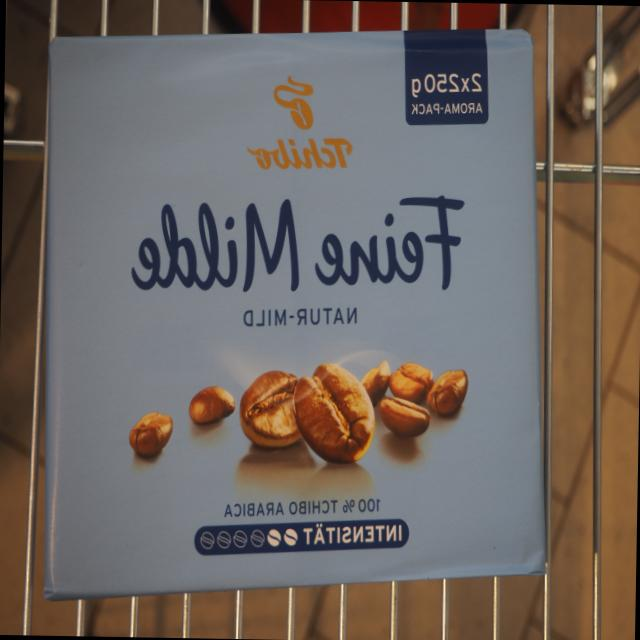FM Gemahlen: (38, 19, 551, 604)
